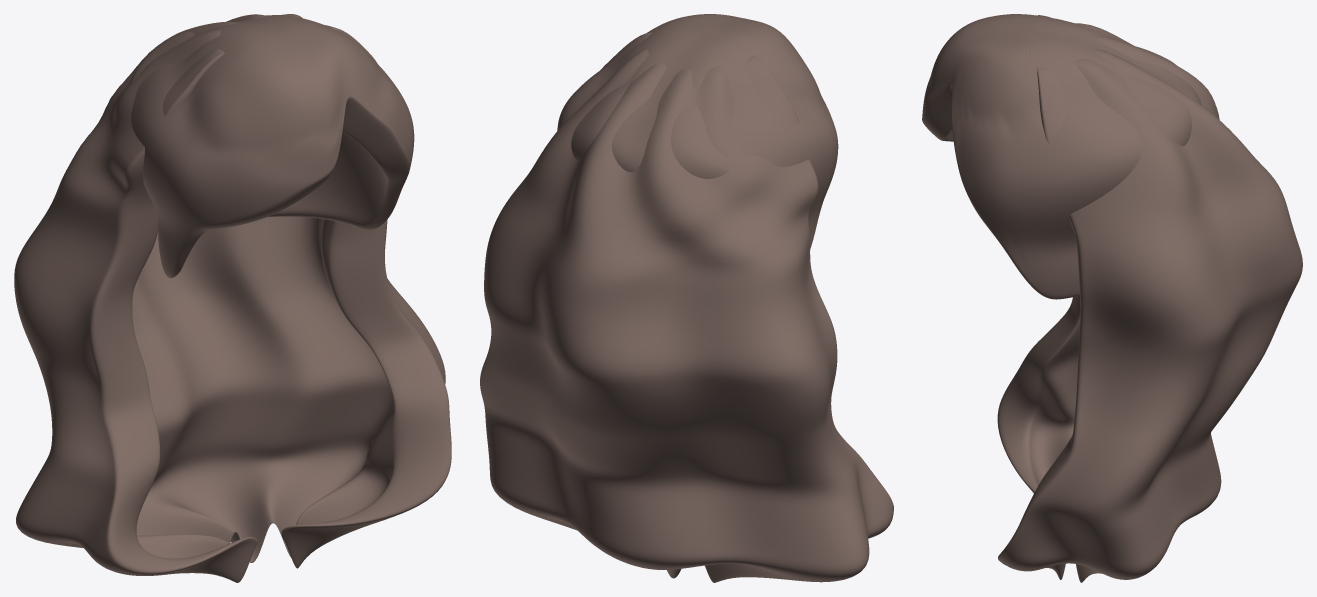
Rendered from hair_long_wave.glb.
3 views of the same model, side by side, from view 1: azimuth 30°, elevation 25°; view 2: azimuth 150°, elevation 25°; view 3: azimuth 270°, elevation 25° (orthographic). The views are drawn at different scales.
Parts seen in each view (by area): view 1: hair_curtain, hair_scalp; view 2: hair_curtain, hair_scalp; view 3: hair_curtain, hair_scalp.
Part boxes in pixels (x1,y1,x2,y2): hair_curtain: (14,14,451,582); hair_scalp: (129,15,414,278); hair_curtain: (480,32,893,582); hair_scalp: (557,14,838,248); hair_curtain: (997,15,1302,582); hair_scalp: (922,14,1201,299).
Size of the model in its own units: 3.28 by 4.25 by 2.75.
